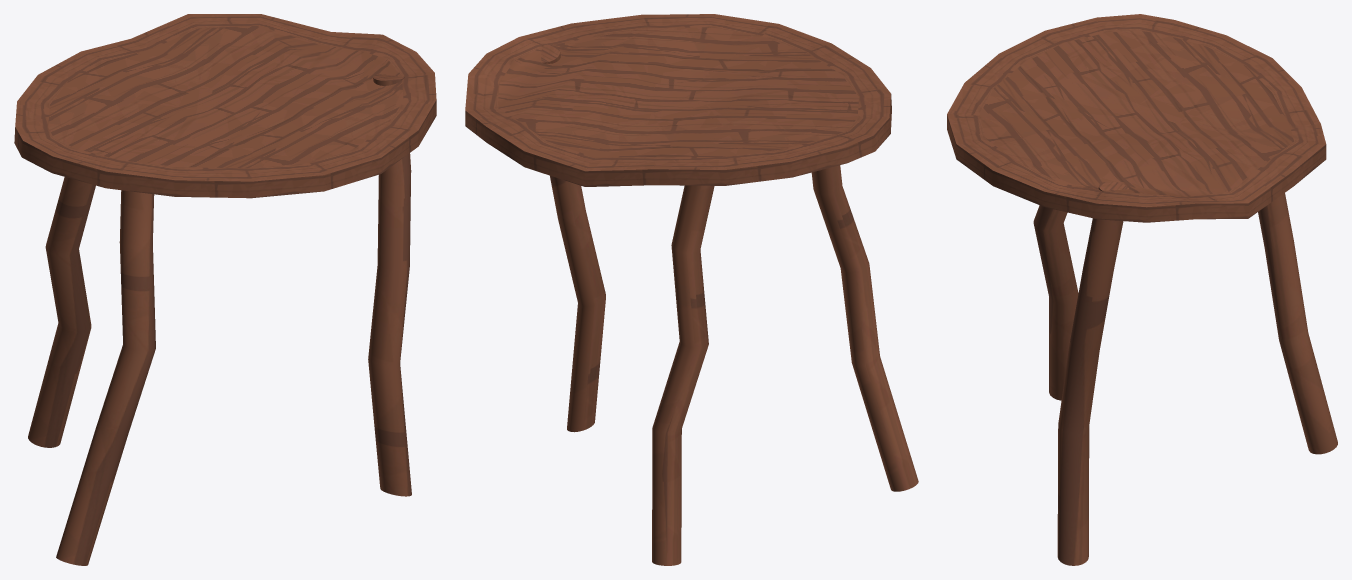
The model's file is aanggnag_platform_04.fbx.
3 renders of one model, left to right at view 1: azimuth 30°, elevation 25°; view 2: azimuth 150°, elevation 25°; view 3: azimuth 270°, elevation 25°, orthographic. The views are drawn at different scales.
Parts seen in each view (by area): view 1: aanggnag_platform_04; view 2: aanggnag_platform_04; view 3: aanggnag_platform_04.
Boxes of the visible parts, left/top/right/bottom form: aanggnag_platform_04: left=14, top=14, right=436, bottom=565; aanggnag_platform_04: left=465, top=14, right=918, bottom=565; aanggnag_platform_04: left=947, top=14, right=1337, bottom=565.
Size of the model in its own units: 513 by 501 by 456.
Materials: 1 (1 with a texture image).
